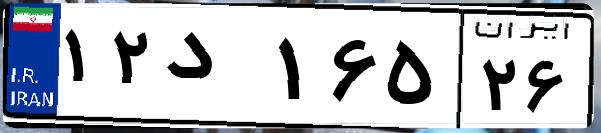1: (270, 28, 330, 110), (57, 26, 110, 100)
2: (475, 38, 525, 113), (110, 28, 158, 98)
5: (385, 28, 445, 110)
6: (330, 28, 385, 110), (525, 38, 570, 115)
د: (158, 20, 270, 120)
